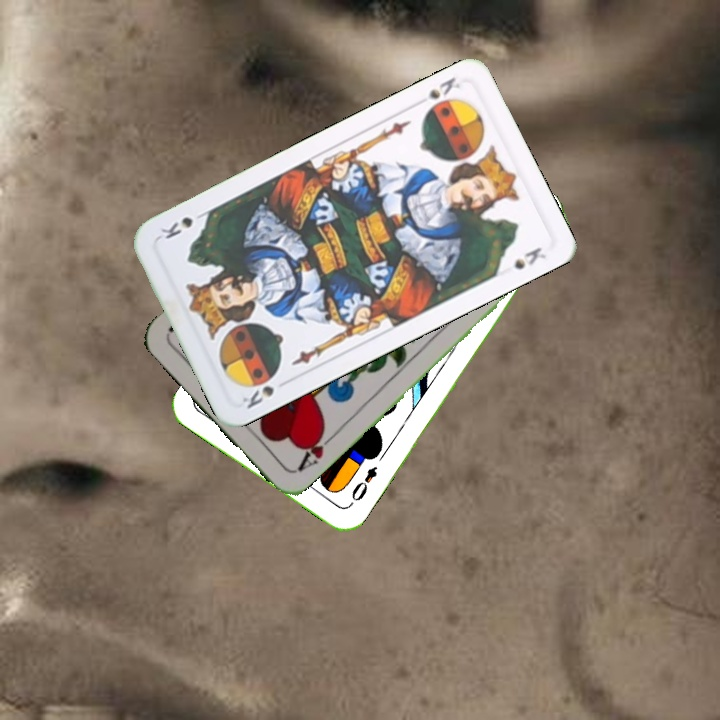EO: (347, 461, 381, 504)
HA: (293, 423, 340, 474)
SK: (410, 73, 463, 109), (238, 381, 277, 412)
